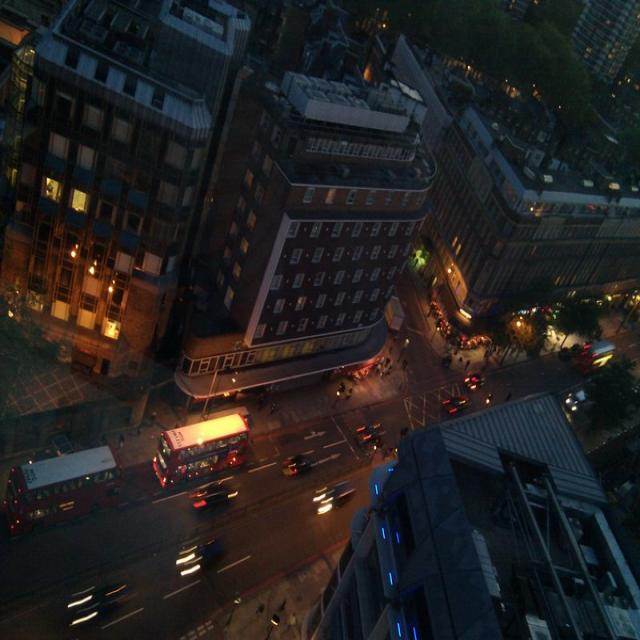Bus: (0, 438, 134, 540), (149, 413, 261, 487), (573, 334, 619, 375)
car: (171, 527, 242, 575), (68, 583, 145, 625), (183, 477, 248, 516), (313, 479, 361, 519), (282, 447, 326, 482), (357, 415, 392, 446), (460, 367, 494, 396)
